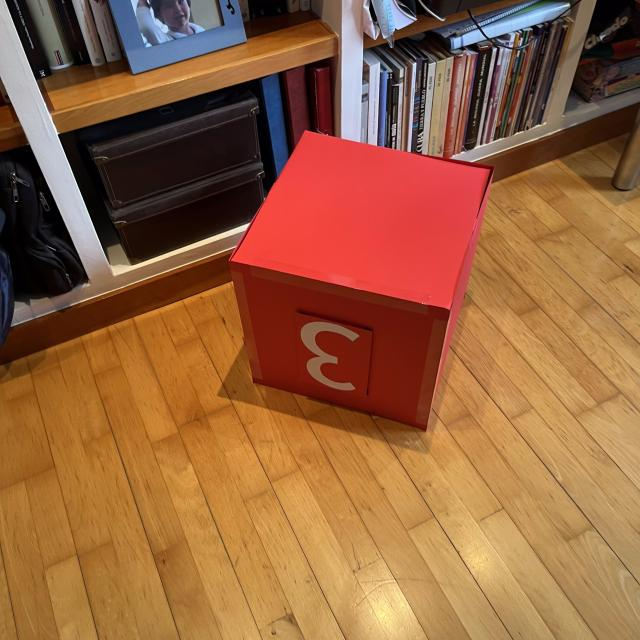box: (225, 126, 496, 433)
